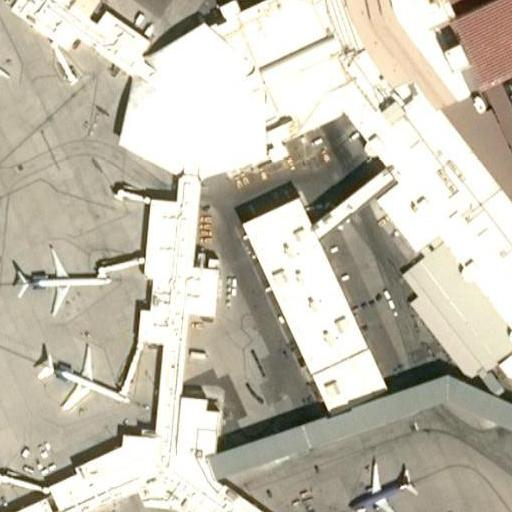Aircraft: (9, 240, 115, 313), (32, 340, 128, 411), (342, 452, 421, 512), (0, 5, 5, 106)
